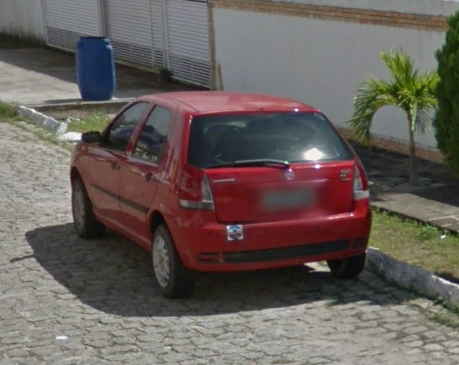car: (68, 85, 376, 302)
